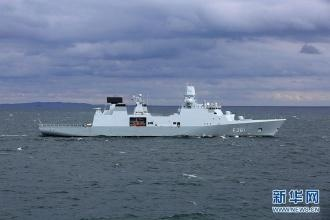warship: (31, 83, 300, 139)
